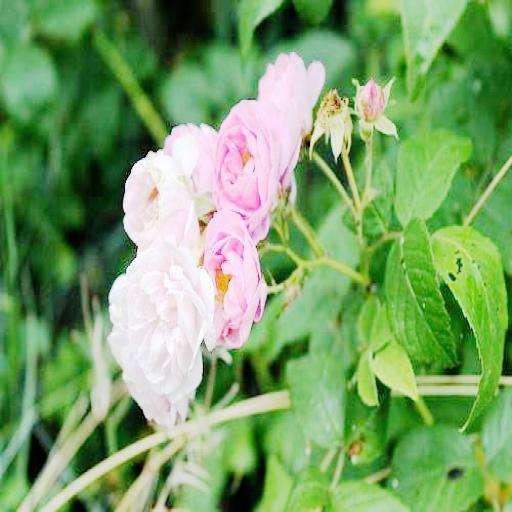rose: (108, 232, 214, 412), (212, 94, 287, 229)
